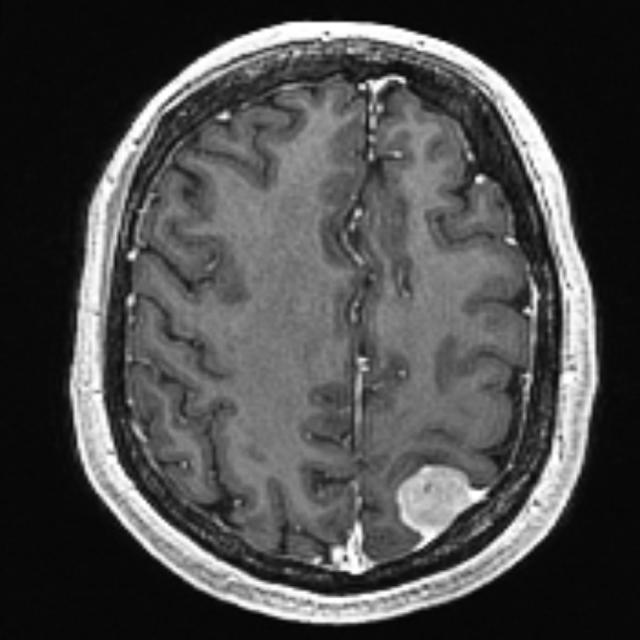Tumor: (392, 458, 496, 557), (315, 531, 383, 575)
